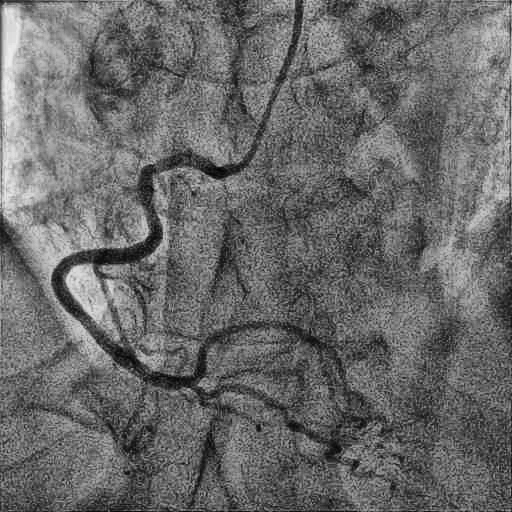pborca: (194, 320, 349, 396)
pda: (191, 383, 394, 487)
rca: (51, 150, 228, 390)
